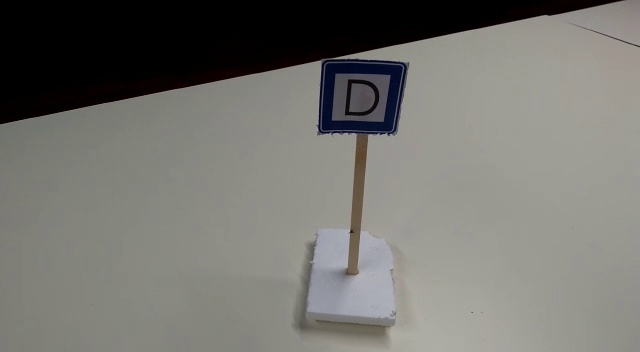durak: (320, 60, 403, 135)
